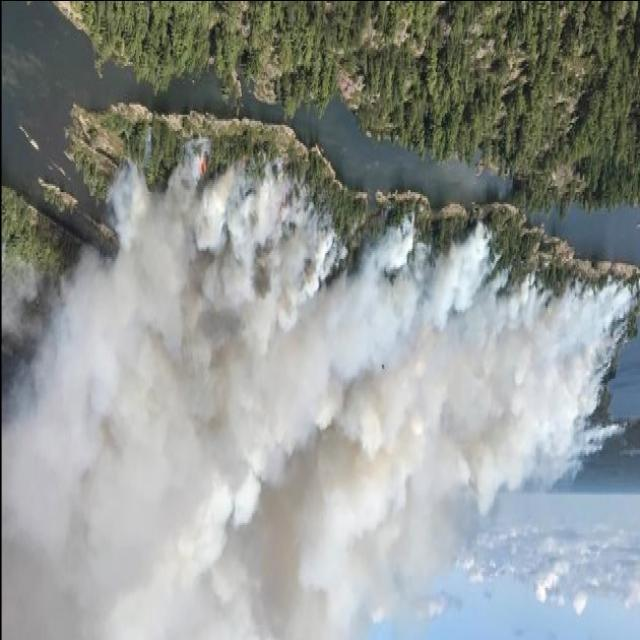Fire: (184, 138, 214, 184)
